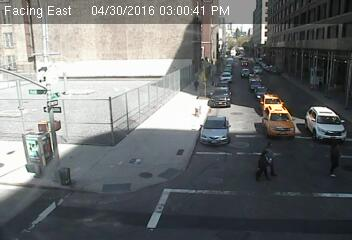neg: (259, 34, 276, 57), (196, 121, 212, 143), (219, 97, 233, 116), (223, 25, 237, 44), (310, 70, 323, 88), (85, 100, 98, 117), (149, 78, 162, 95), (291, 49, 304, 66), (171, 143, 183, 159), (152, 48, 164, 63), (141, 114, 152, 129), (106, 83, 117, 98), (115, 107, 124, 120), (75, 91, 80, 98)
pos: (319, 137, 351, 181), (256, 139, 281, 173), (249, 149, 273, 181), (189, 76, 202, 93)
